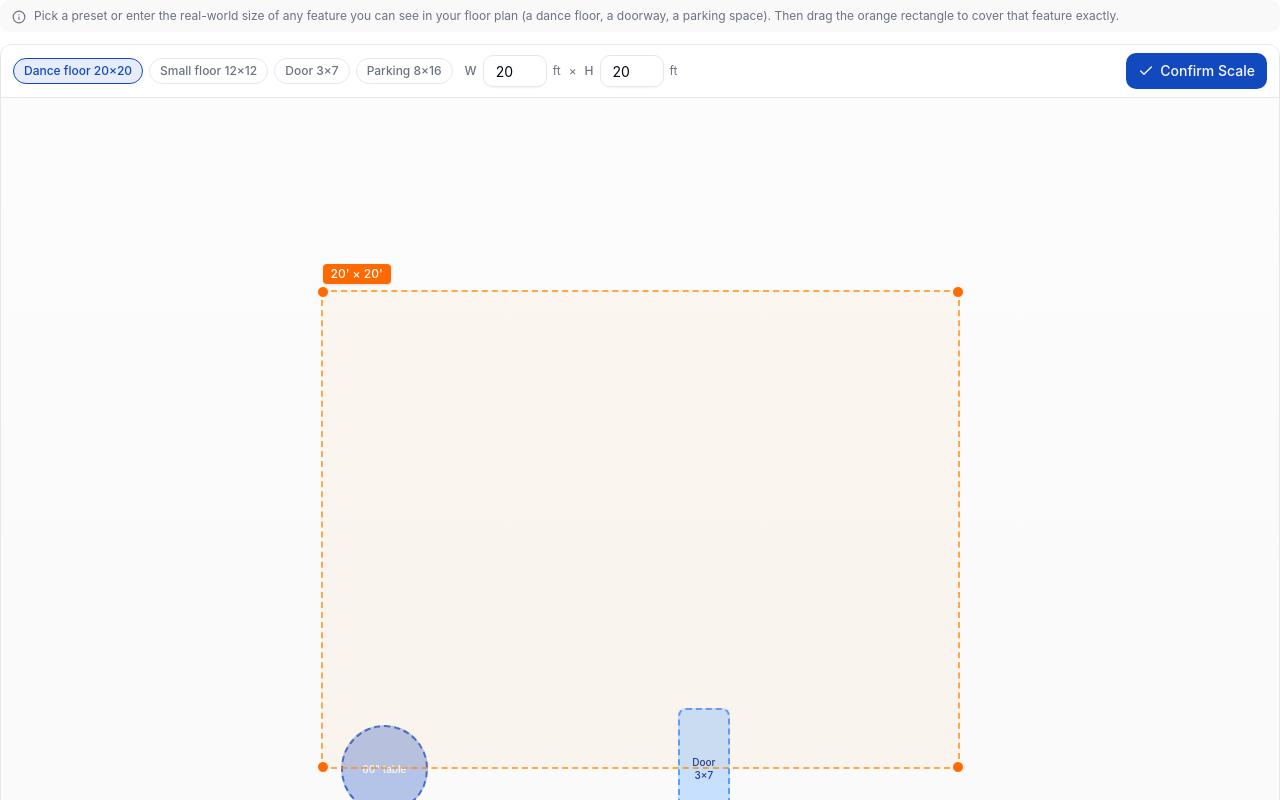
Test: StepSetScale dimension validation › does not propagate values below the minimum (1 ft) and shows the error banner
The width and height of the screenshot is (1280, 800).
Type "0" into the number field labelled "W".
click(515, 71); type("0")  # box [483,55,547,87]
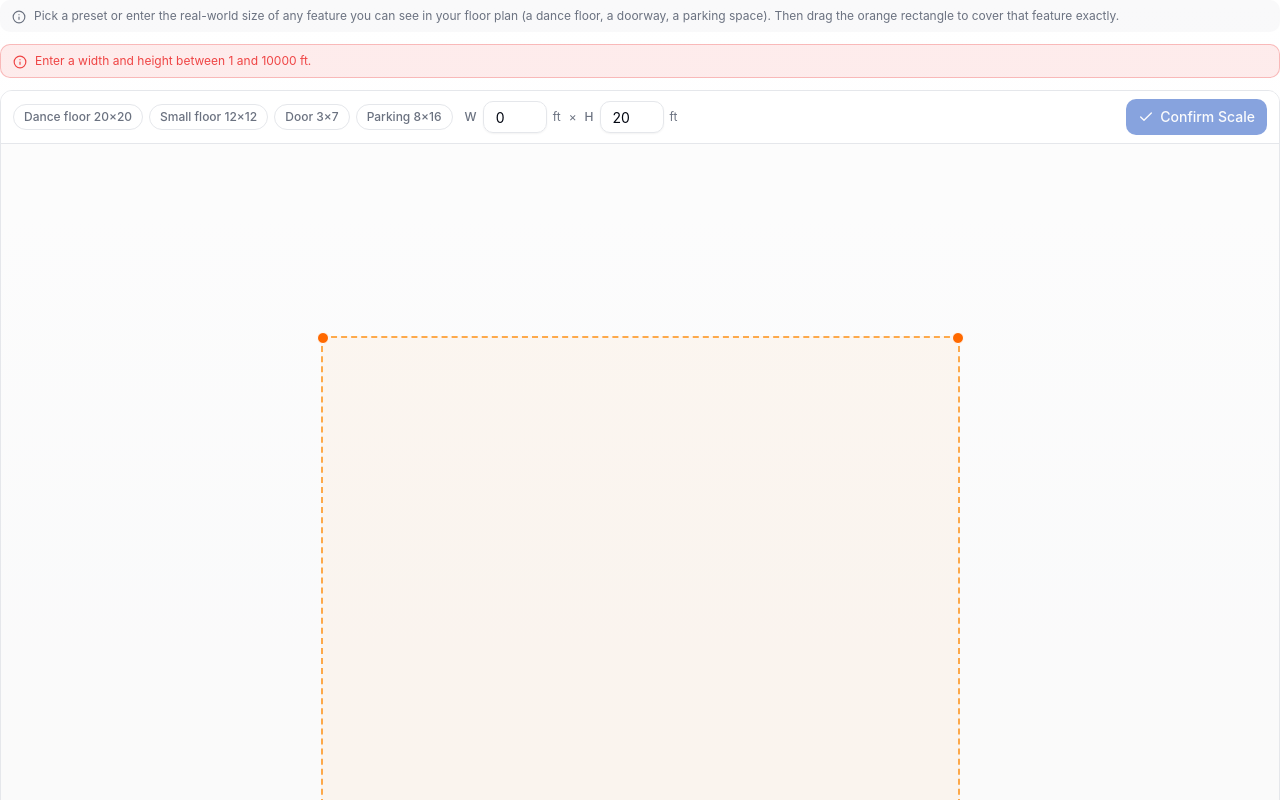
Check: the text "Enter a width and height between 1 and 10000 ft." is shown, box [35,53,311,69]
Check: the button "Confirm Scale" is disabled, box [1126,99,1267,135]
